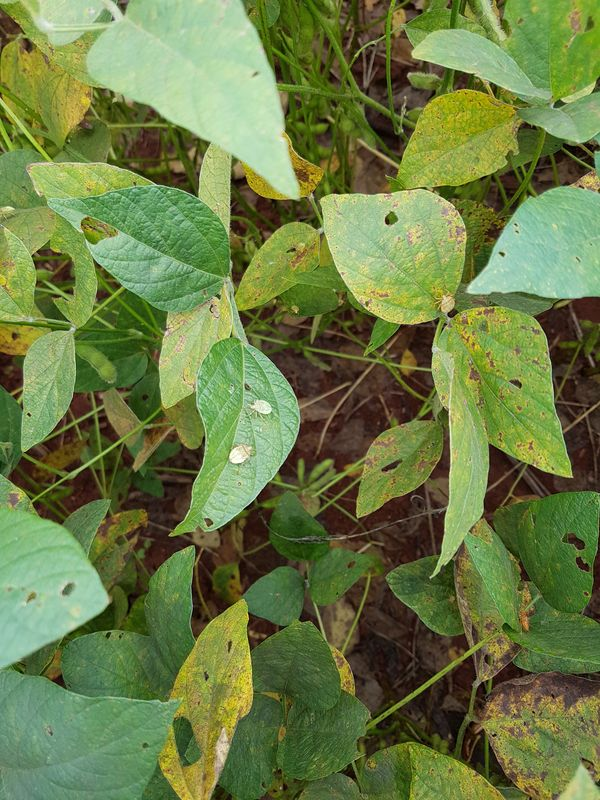Euschistus_heros_adulto: (74, 115, 97, 135)
Euschistus_heros_ninfa: (223, 440, 257, 471), (429, 286, 459, 318), (244, 395, 276, 423), (1, 203, 19, 223)
